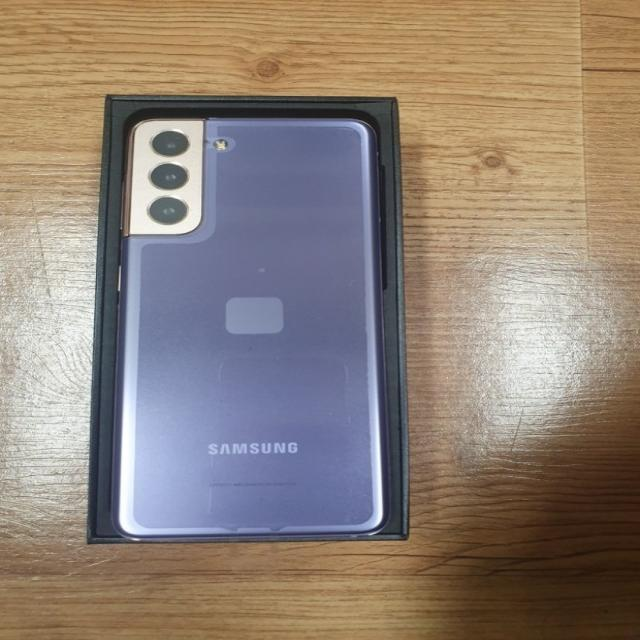phone: (120, 115, 384, 538)
